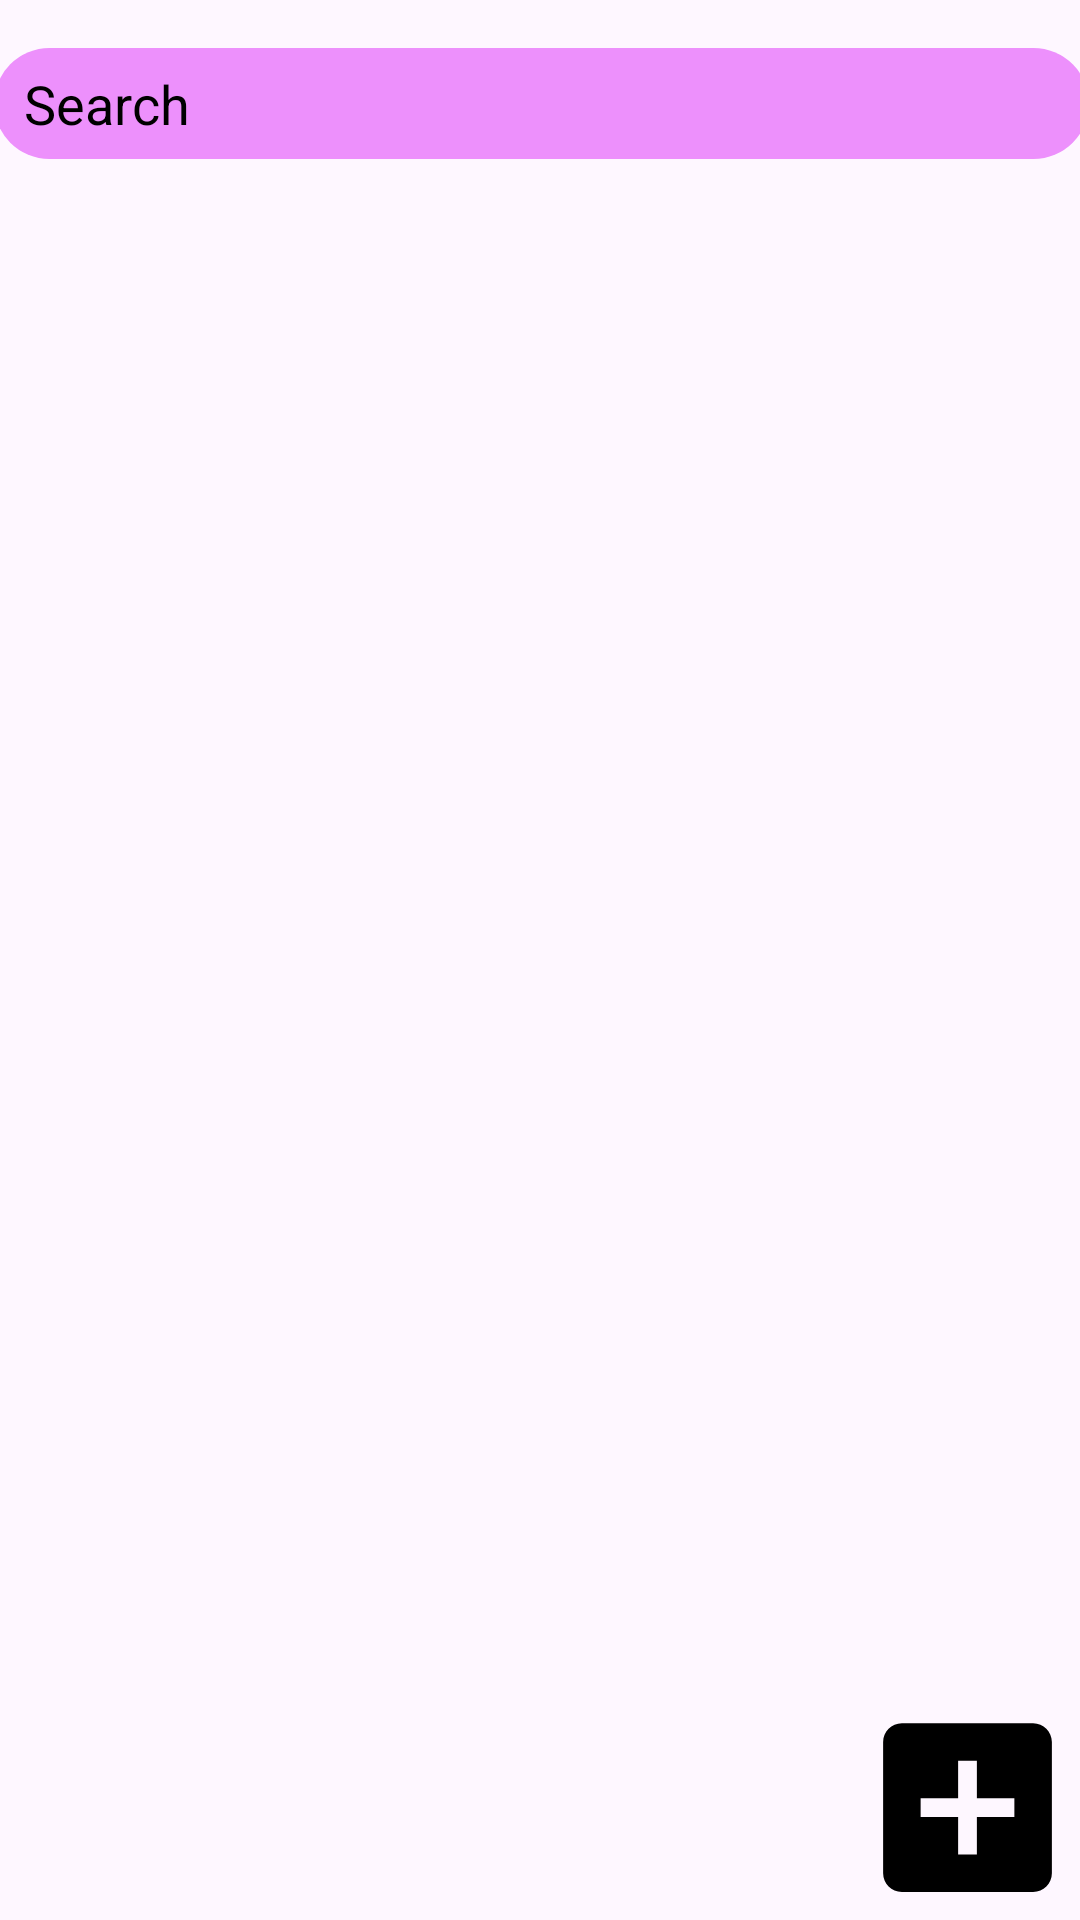

Named icons in this screenshot (1080×1920) and their bounding boxes, (x1, y1, x2, y2):
add box: (883, 1723, 1052, 1892)
